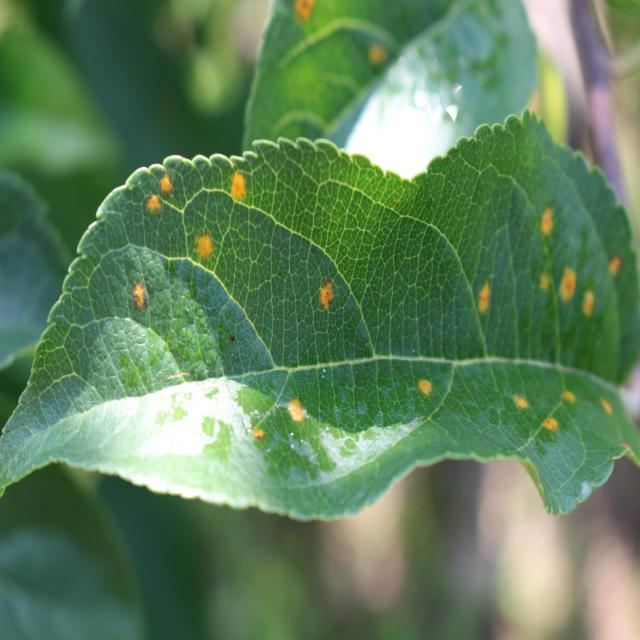Rust: (310, 272, 340, 319), (558, 250, 578, 318), (125, 274, 151, 322), (225, 166, 251, 213), (475, 270, 495, 330), (187, 230, 219, 266), (536, 409, 566, 446), (538, 198, 557, 251), (511, 378, 531, 426), (596, 386, 620, 425), (284, 395, 310, 430), (604, 245, 626, 285), (413, 373, 437, 402), (555, 381, 579, 410), (579, 289, 599, 323), (138, 192, 164, 216), (160, 167, 180, 198), (536, 268, 554, 300), (248, 419, 267, 446)
